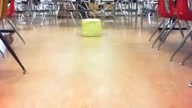cube: (80, 19, 101, 37)
